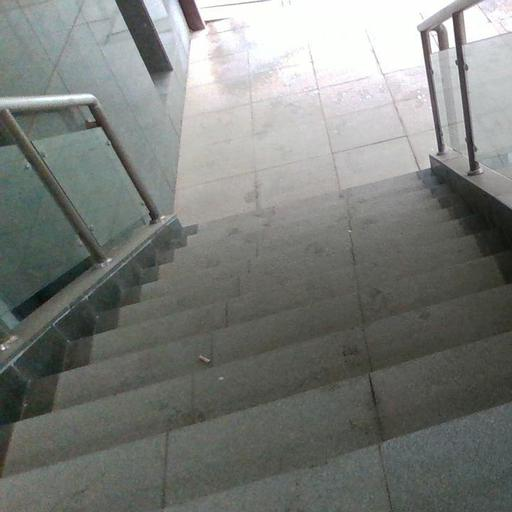Stairs: (2, 171, 512, 512)
